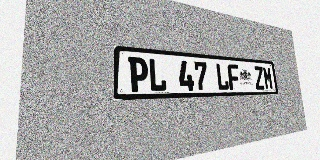4: (178, 60, 195, 91)
7: (193, 61, 209, 91)
F: (227, 64, 240, 90)
L: (148, 58, 167, 92), (215, 63, 229, 90)
M: (262, 67, 273, 89)
P: (128, 57, 149, 92)
Z: (253, 66, 265, 90)
